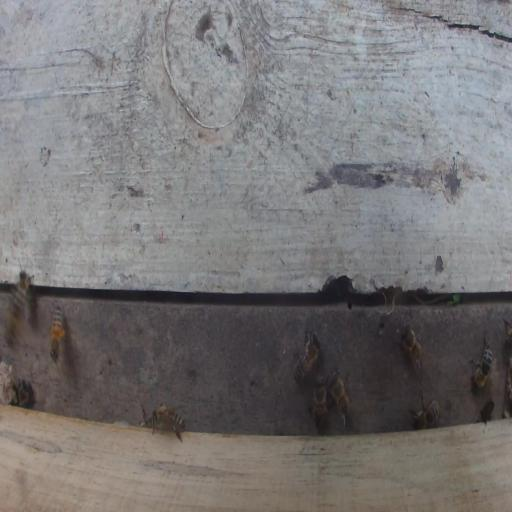bee: (149, 404, 187, 442), (293, 330, 320, 383), (329, 371, 353, 430), (467, 334, 492, 390), (399, 322, 423, 375), (11, 265, 33, 322), (410, 394, 440, 429), (310, 375, 328, 430), (50, 304, 66, 360), (12, 379, 33, 407), (475, 398, 494, 425), (503, 318, 512, 346)
